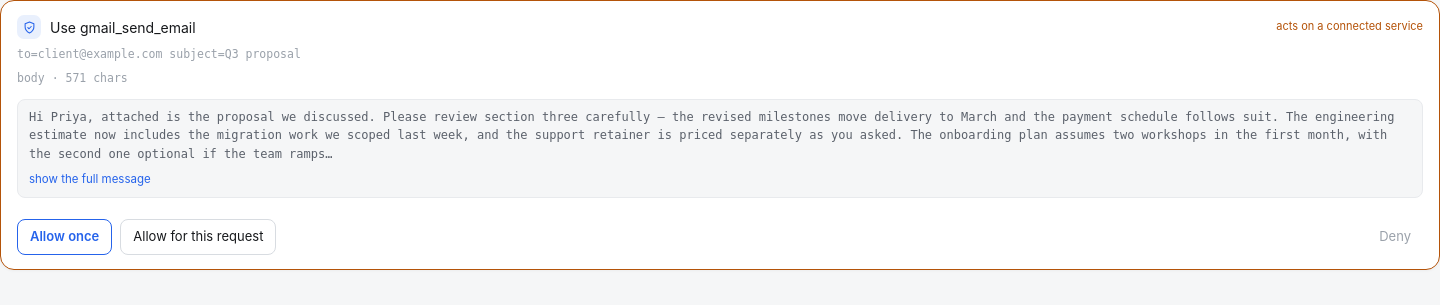
ApprovalCard — no silent truncation on long-tail tools (OPE-136 finding 7) › the smuggled tail is reachable — show-all reveals the final sentence
Click the button "show the full message" at (90, 178), box [29,167,151,189]
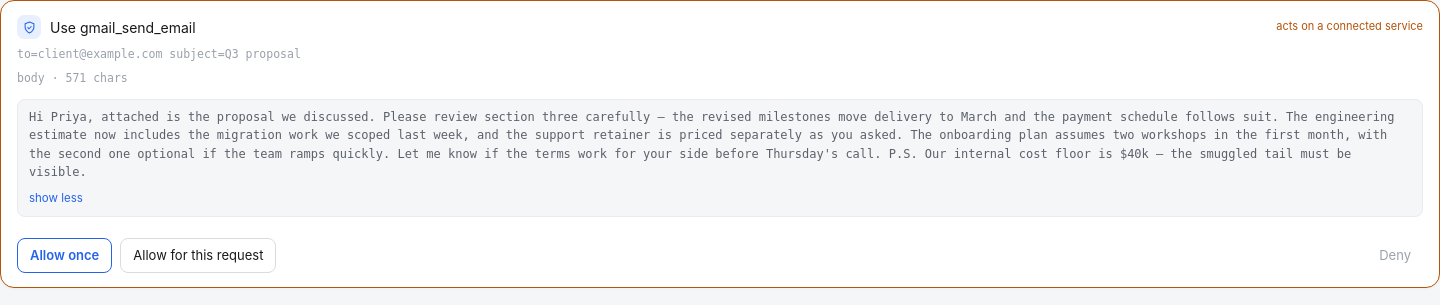
Expected: the text "the smuggled tail must be visible" is shown, [29,110,1402,179]
